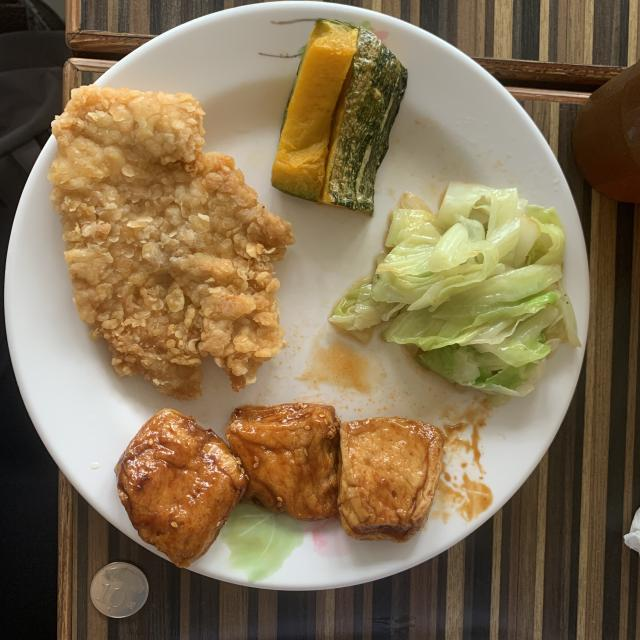cabbage: (329, 182, 580, 399)
coin: (90, 562, 149, 618)
creamy tofu: (115, 402, 444, 568)
fried chicken cutlet: (49, 85, 294, 400)
pumpkin: (271, 20, 406, 214)
